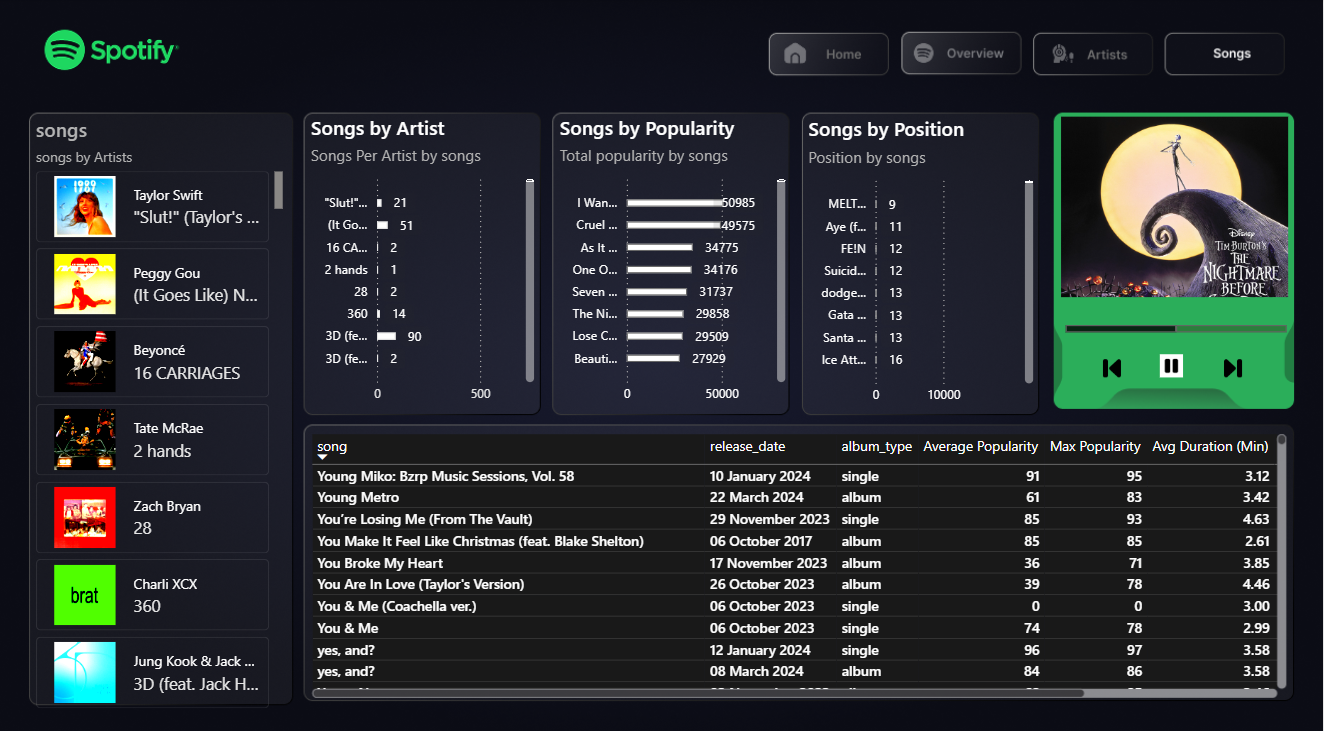

This screenshot's page, from the dashboard's own definition file:
{"tool":"powerbi","page":{"name":"Songs","canvas":[1280,720],"ordinal":3},"visuals":[{"type":"actionButton","box":[747,33.1,114.6,42.2],"z":0},{"type":"actionButton","box":[870.1,33.1,119.4,42.2],"z":1000},{"type":"actionButton","box":[1000.8,34.9,115,41.2],"z":2000},{"type":"actionButton","box":[1128.3,34.9,115,41.2],"z":3000},{"type":"hundredPercentStackedBarChart","fields":{"Y":["Month.Average Popularity","Avg(Top-50-world.popularity)"]},"box":[1026.7,283.5,223.2,66.4],"z":4000},{"type":"image","box":[1055.3,342,40,30],"z":5000},{"type":"image","box":[1172.8,342,40,30],"z":6000},{"type":"image","box":[1106.6,339.5,55,32.5],"z":7000},{"type":"advancedSlicerVisual","title":"songs ","fields":{"Values":["Top-50-world.song"]},"box":[32.9,114.3,248.6,577.1],"z":8000},{"type":"clusteredBarChart","title":" Songs by Artist","fields":{"Y":["Month.Songs Per Artist"],"Category":["Top-50-world.song"]},"box":[298,112.2,225.6,287.1],"z":9000},{"type":"clusteredBarChart","title":" Songs by Popularity","fields":{"Y":["Sum(Top-50-world.popularity)"],"Category":["Top-50-world.song"]},"box":[538.1,112.2,228,287.1],"z":10000},{"type":"clusteredBarChart","title":" Songs by Position","fields":{"Category":["Top-50-world.song"],"Y":["Sum(Top-50-world.position)"]},"box":[778.6,112.9,227.1,287.1],"z":11000},{"type":"tableEx","fields":{"Values":["Top-50-world.song","Top-50-world.release_date","Top-50-world.album_type","Month.Average Popularity","Month.Max Popularity","Month.Avg Duration (Min)","Month.Avg Tracks Per Album","Month.Min Popularity"]},"box":[298.6,415.7,951.4,264.3],"z":12000},{"type":"cardVisual","fields":{"Data":["Min(Top-50-world.album_cover_url)"]},"box":[870,112.9,374.3,181.4],"z":13000}]}

Visuals, with their boxes in screenshot pixels (x1, y1, x2, y2), scaled from the page's 1280x720 canvas onto the 1324x731 screenshot:
actionButton: x1=773 y1=34 x2=891 y2=76
actionButton: x1=900 y1=34 x2=1024 y2=76
actionButton: x1=1035 y1=35 x2=1154 y2=77
actionButton: x1=1167 y1=35 x2=1286 y2=77
hundredPercentStackedBarChart - Month.Average Popularity x Avg(Top-50-world.popularity): x1=1062 y1=288 x2=1293 y2=355
image: x1=1092 y1=347 x2=1133 y2=378
image: x1=1213 y1=347 x2=1254 y2=378
image: x1=1145 y1=345 x2=1202 y2=378
"songs " advancedSlicerVisual: x1=34 y1=116 x2=291 y2=702
" Songs by Artist" clusteredBarChart: x1=308 y1=114 x2=542 y2=405
" Songs by Popularity" clusteredBarChart: x1=557 y1=114 x2=792 y2=405
" Songs by Position" clusteredBarChart: x1=805 y1=115 x2=1040 y2=406
tableEx - Top-50-world.song x Top-50-world.release_date: x1=309 y1=422 x2=1293 y2=690
cardVisual - Min(Top-50-world.album_cover_url): x1=900 y1=115 x2=1287 y2=299
